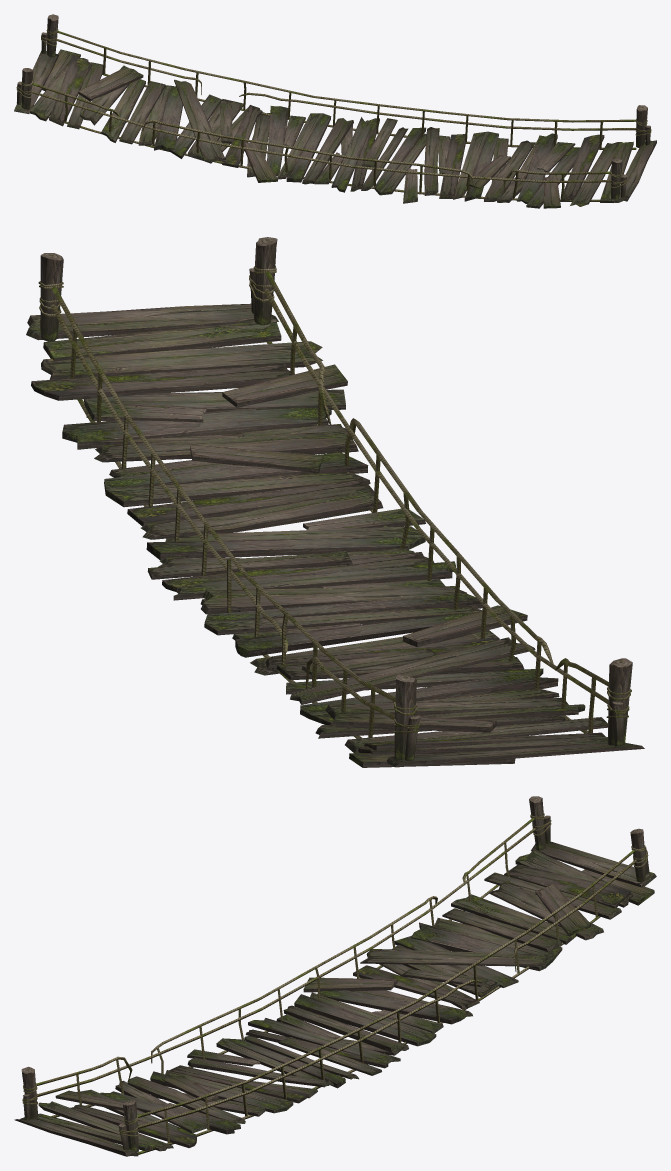
Rendered from 5006_Item_qiao_1.FBX.
3 views of the same model, one above another, from view 1: azimuth 30°, elevation 25°; view 2: azimuth 150°, elevation 25°; view 3: azimuth 270°, elevation 25° (orthographic). The views are drawn at different scales.
Visible parts, largest first — view 1: 5006_Item_qiao_1; view 2: 5006_Item_qiao_1; view 3: 5006_Item_qiao_1.
Boxes of the visible parts, <box> form: 5006_Item_qiao_1: <box>14,14,656,208</box>; 5006_Item_qiao_1: <box>26,237,644,767</box>; 5006_Item_qiao_1: <box>14,796,656,1156</box>.
Size of the model in its own units: 4218 by 819 by 4006.
